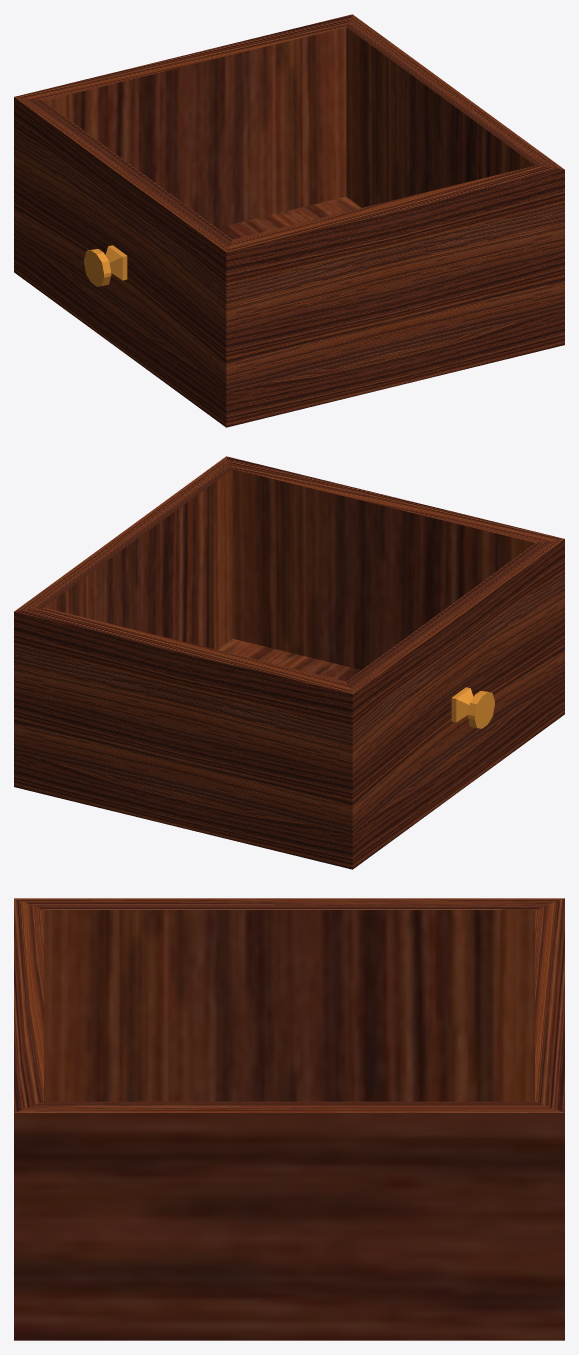
The model's file is 2. Gaveteiro Gavetas Menores.fbx.
3 views of the same model, one above another, from view 1: azimuth 30°, elevation 25°; view 2: azimuth 150°, elevation 25°; view 3: azimuth 270°, elevation 25° (orthographic). The views are drawn at different scales.
Parts seen in each view (by area): view 1: Cube.018; view 2: Cube.018; view 3: Cube.018.
Boxes of the visible parts, x1,y1,x2,y2 form: Cube.018: [14, 14, 564, 427]; Cube.018: [14, 456, 564, 869]; Cube.018: [14, 898, 564, 1340].
Size of the model in its own units: 193 by 88.55 by 194.
